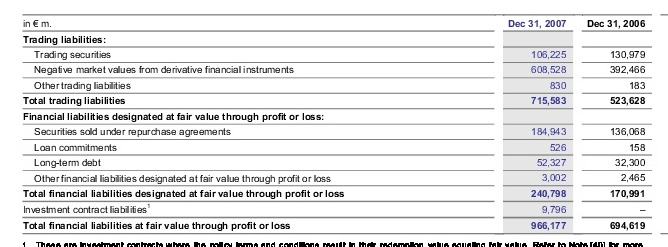table: (0, 0, 668, 247)
